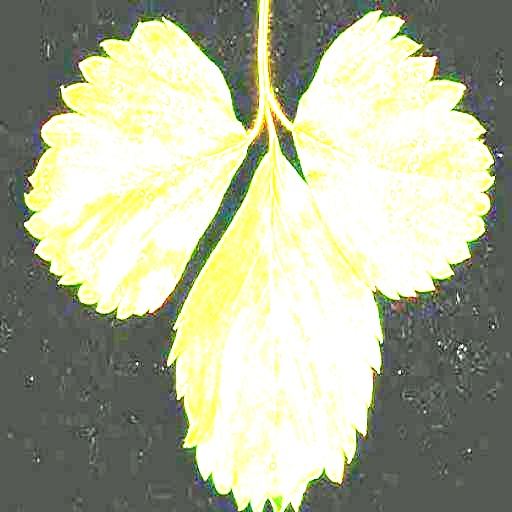Leaf Spot: (167, 134, 382, 511), (22, 17, 248, 320), (293, 12, 498, 299)
